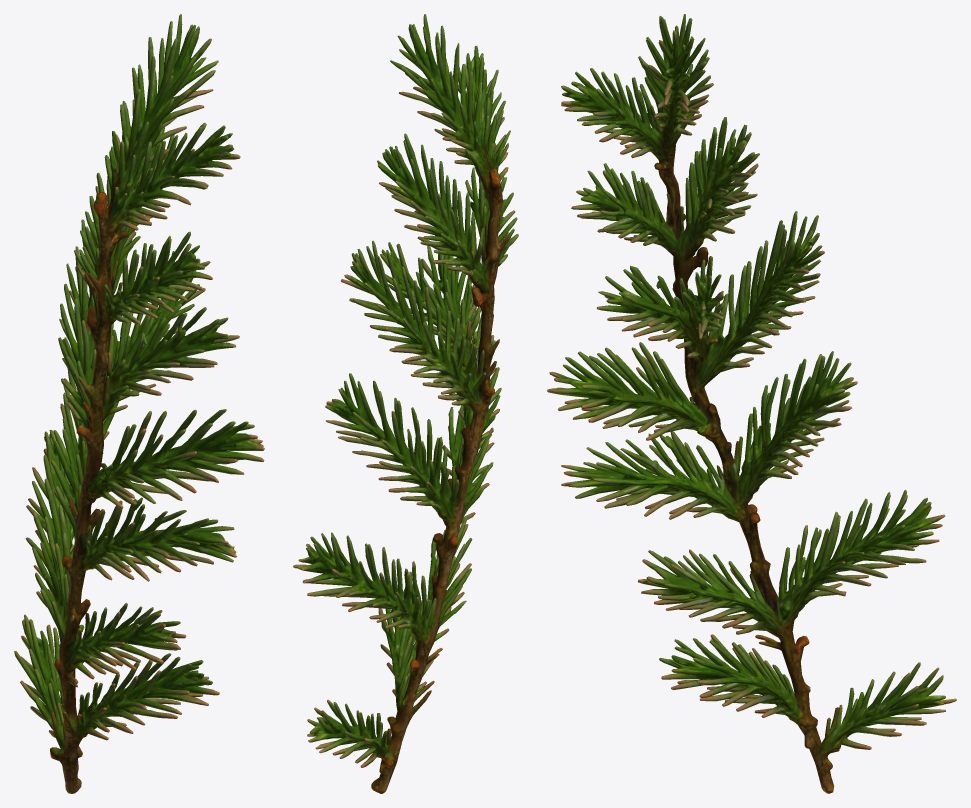
File: PineBranch.glb
3 views of the same model, side by side, from view 1: azimuth 30°, elevation 25°; view 2: azimuth 150°, elevation 25°; view 3: azimuth 270°, elevation 25° (orthographic). The views are drawn at different scales.
Parts seen in each view (by area): view 1: tripo_node_964861f3-4bdf-49b9-a17c-11e33229632a; view 2: tripo_node_964861f3-4bdf-49b9-a17c-11e33229632a; view 3: tripo_node_964861f3-4bdf-49b9-a17c-11e33229632a.
Part boxes in pixels (bbox=[...]): tripo_node_964861f3-4bdf-49b9-a17c-11e33229632a: bbox=[14, 14, 264, 793]; tripo_node_964861f3-4bdf-49b9-a17c-11e33229632a: bbox=[293, 14, 518, 793]; tripo_node_964861f3-4bdf-49b9-a17c-11e33229632a: bbox=[547, 14, 956, 793].
Size of the model in its own units: 0.1711 by 0.9993 by 0.4682.
1 material, 1 textured.
